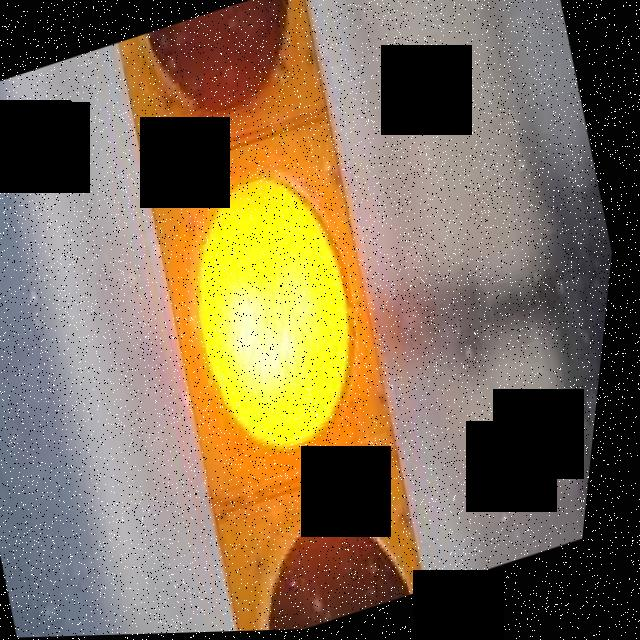yellow: (72, 0, 483, 637)
